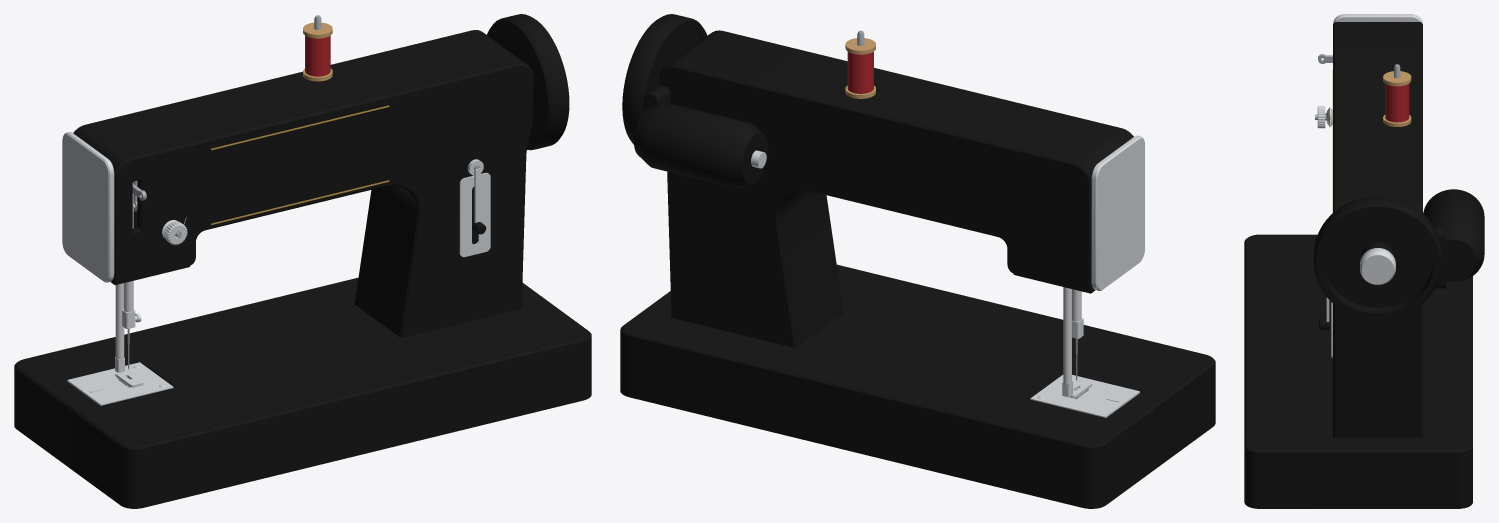
The model's file is sewing-machine.glb.
The picture shows the model from 3 angles, left to right: view 1: azimuth 30°, elevation 25°; view 2: azimuth 150°, elevation 25°; view 3: azimuth 270°, elevation 25°; orthographic projection. The views are drawn at different scales.
Visible parts, largest first — view 1: bed, arm_front, face_plate, balance_wheel, stitch_lever, spool, slide_plate, presser_foot, needle_plate, needle_bar; view 2: bed, arm_front, motor, face_plate, balance_wheel, spool, slide_plate, presser_foot, needle_plate; view 3: bed, arm_front, balance_wheel, motor, spool, face_plate, tension, stitch_lever.
Part boxes in pixels (left/top/right/bottom): bed: left=14, top=30, right=591, bottom=508; arm_front: left=95, top=46, right=533, bottom=337; face_plate: left=62, top=132, right=114, bottom=282; balance_wheel: left=487, top=14, right=569, bottom=150; stitch_lever: left=459, top=159, right=490, bottom=257; spool: left=303, top=15, right=332, bottom=81; slide_plate: left=67, top=372, right=133, bottom=405; presser_foot: left=115, top=283, right=143, bottom=387; needle_plate: left=100, top=362, right=173, bottom=397; needle_bar: left=122, top=182, right=141, bottom=328; bed: left=620, top=47, right=1215, bottom=508; arm_front: left=690, top=30, right=1133, bottom=329; motor: left=634, top=85, right=768, bottom=188; face_plate: left=1091, top=135, right=1144, bottom=290; balance_wheel: left=622, top=14, right=707, bottom=144; spool: left=845, top=30, right=875, bottom=98; slide_plate: left=1071, top=383, right=1139, bottom=417; presser_foot: left=1062, top=287, right=1091, bottom=398; needle_plate: left=1030, top=375, right=1105, bottom=409; bed: left=1244, top=22, right=1472, bottom=508; arm_front: left=1332, top=22, right=1377, bottom=437; balance_wheel: left=1313, top=196, right=1442, bottom=320; motor: left=1423, top=189, right=1484, bottom=288; spool: left=1383, top=64, right=1411, bottom=126; face_plate: left=1333, top=14, right=1422, bottom=23; tension: left=1315, top=106, right=1332, bottom=128; stitch_lever: left=1319, top=297, right=1332, bottom=357.
Size of the model in its own units: 0.42 by 0.302 by 0.187.
